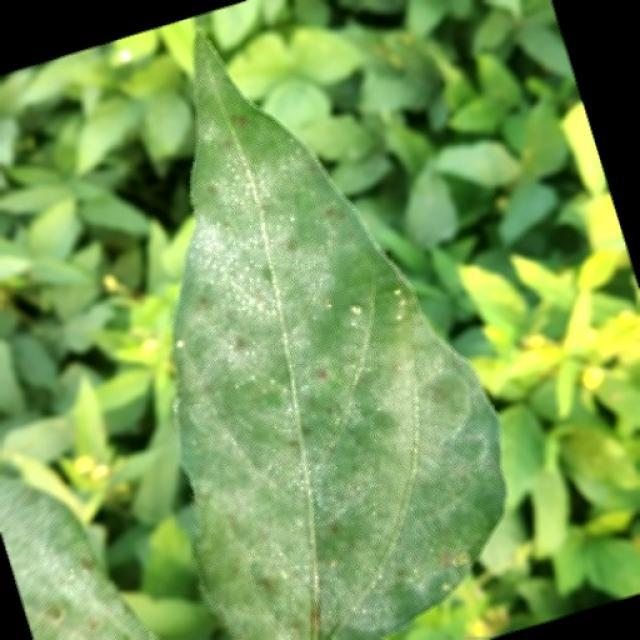leaves: (147, 4, 519, 640)
